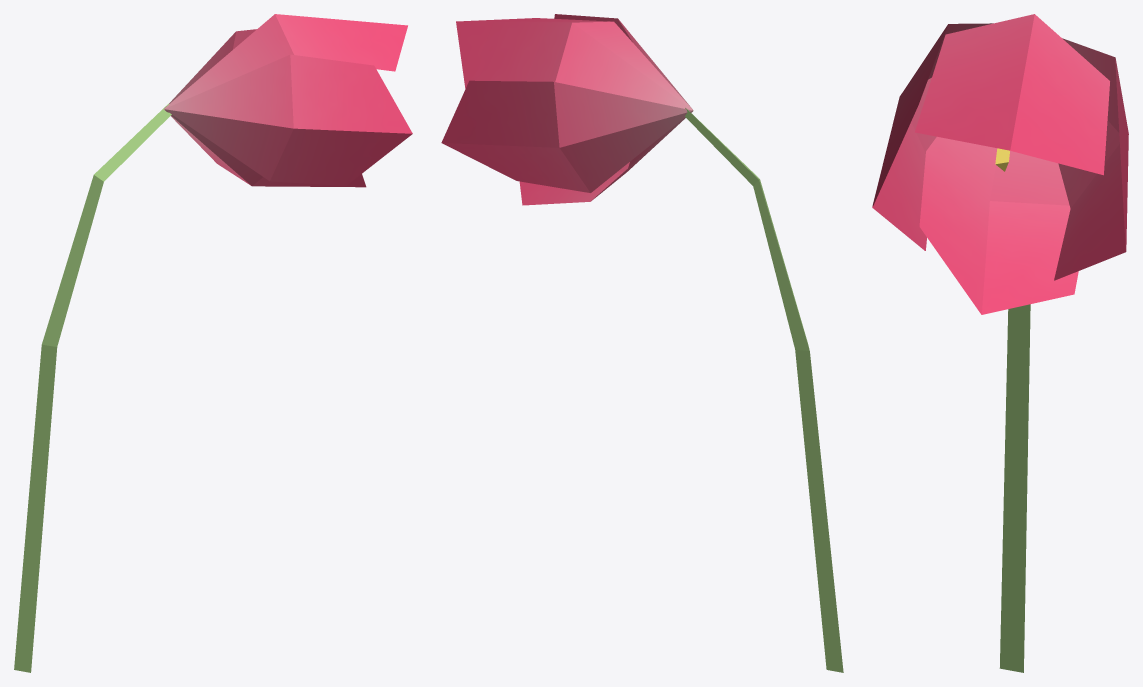
Rendered from Flower_f_TwoS_06.fbx.
The picture shows the model from 3 angles, left to right: view 1: azimuth 30°, elevation 25°; view 2: azimuth 150°, elevation 25°; view 3: azimuth 270°, elevation 25°; orthographic projection. The views are drawn at different scales.
Visible parts, largest first — view 1: Flower_f_TwoS_06; view 2: Flower_f_TwoS_06; view 3: Flower_f_TwoS_06.
Boxes of the visible parts, <box> form: Flower_f_TwoS_06: <box>14,14,412,672</box>; Flower_f_TwoS_06: <box>441,14,843,672</box>; Flower_f_TwoS_06: <box>872,14,1128,672</box>.
Bounding box in the file's own units: 0.2876 × 0.4134 × 0.1156.
